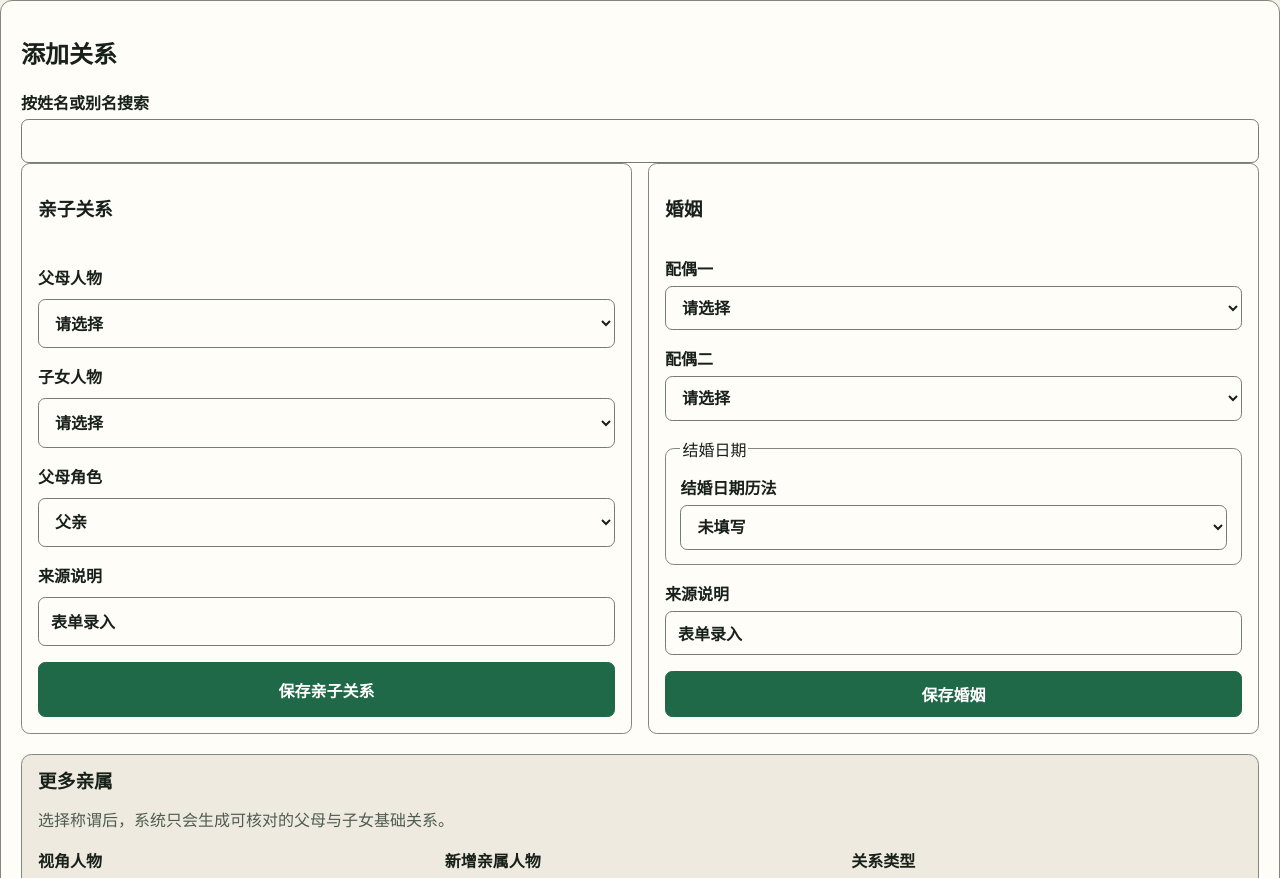
RelationshipEditor › stages Web parent-child entry before the legacy relationship gateway
The width and height of the screenshot is (1280, 878).
Select "｜张国强" in the dropdown labelled "父母人物" at (326, 324), box [38,299,615,348]
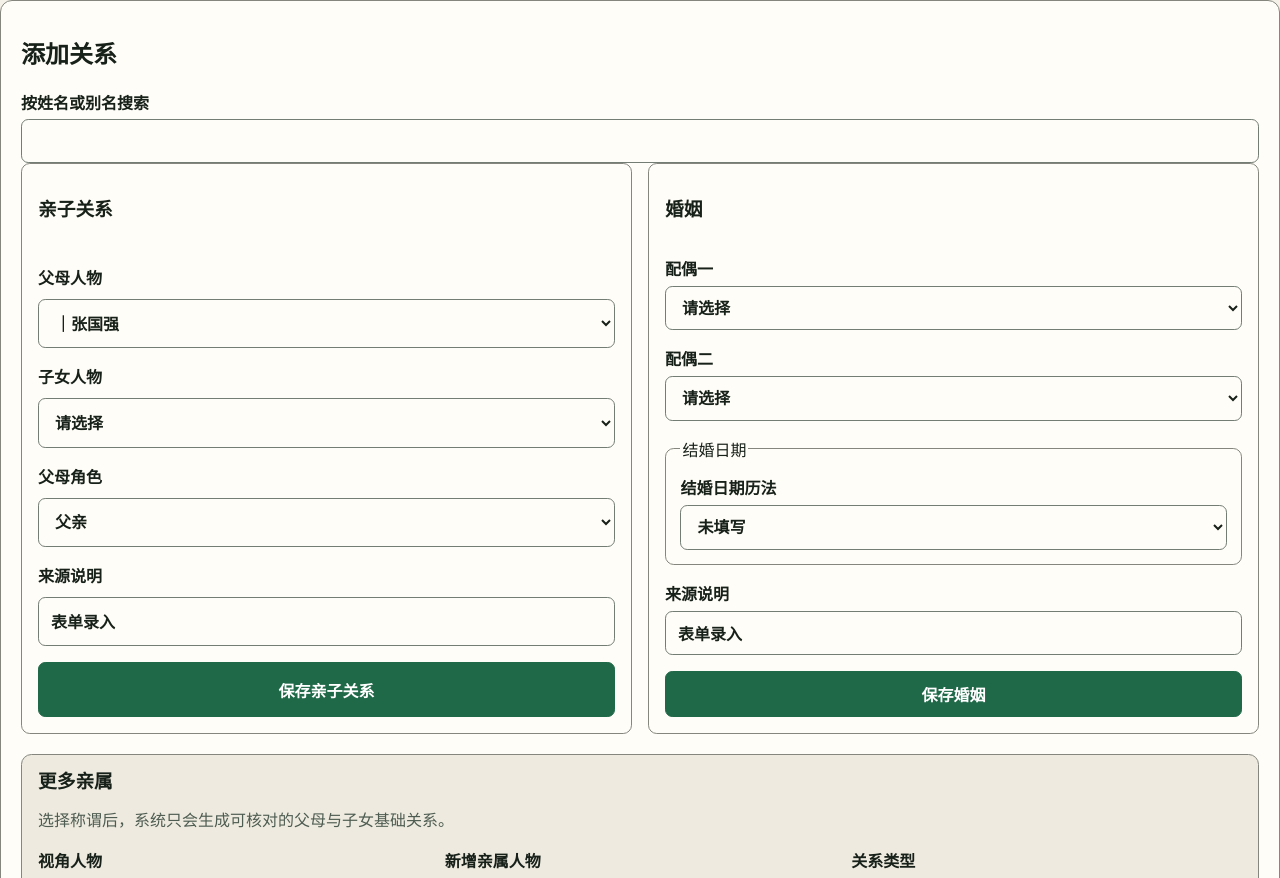
Select "｜张敏" in the dropdown labelled "子女人物" at (326, 423), box [38,398,615,448]
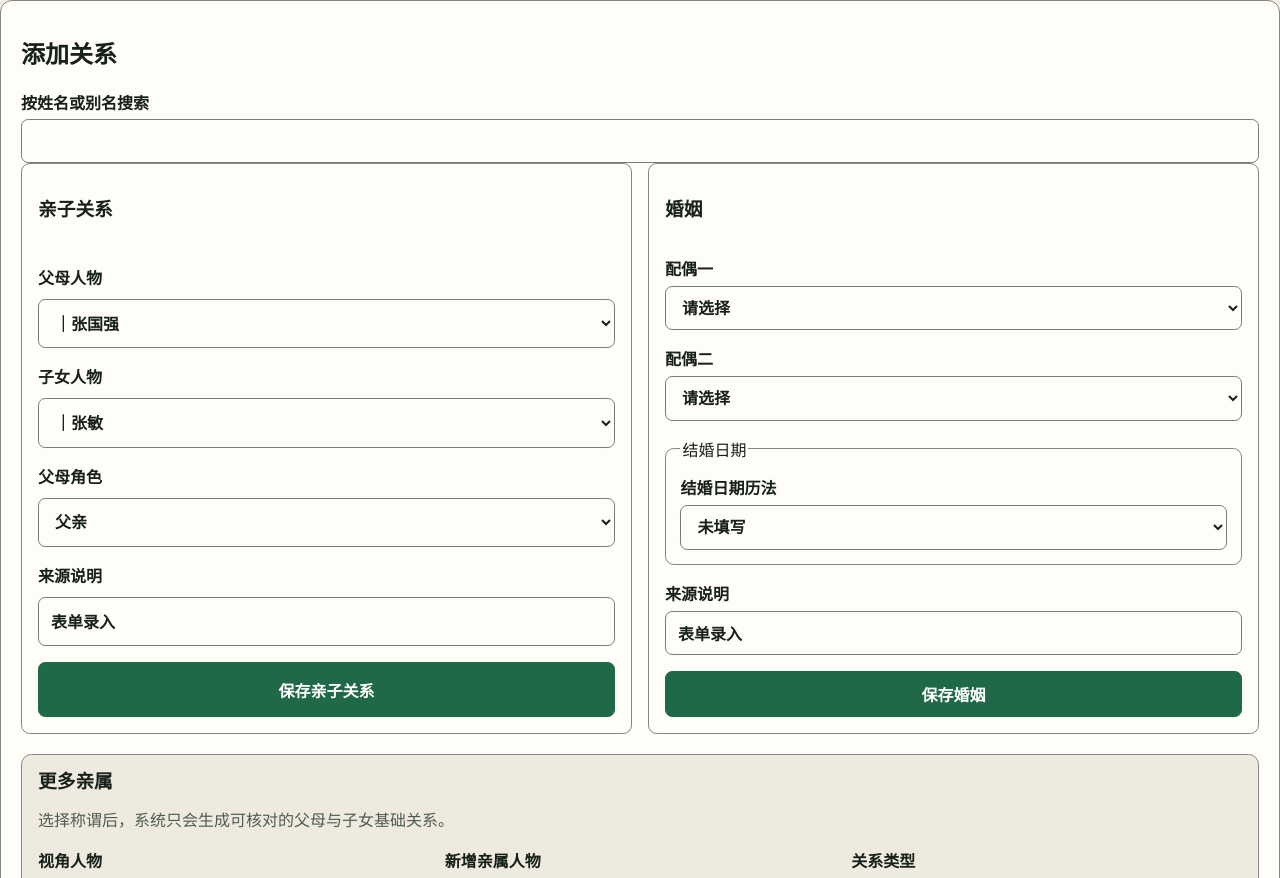
Click the button "保存亲子关系" at (326, 690), box [38,662,615,717]
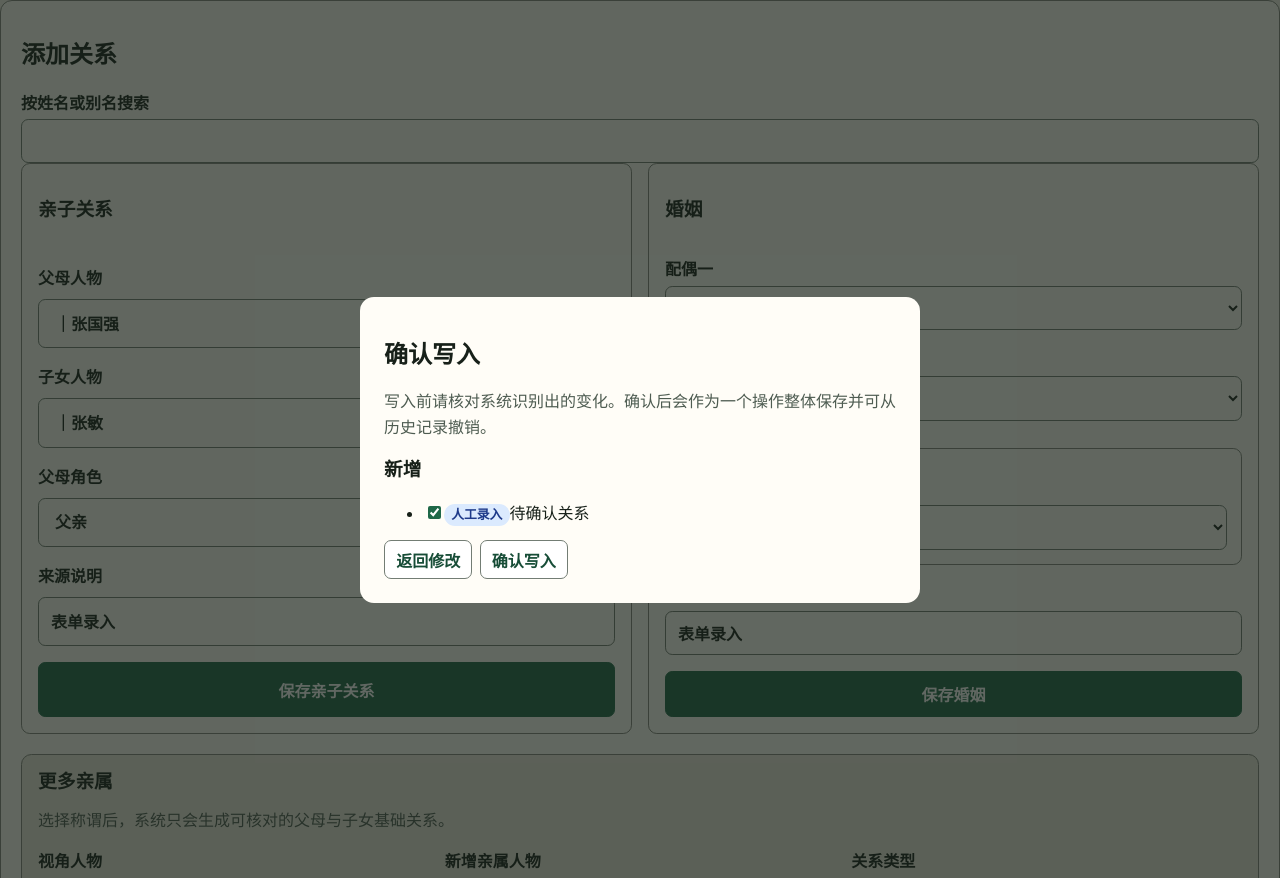
expect the dialog "确认写入" is shown: met, box [360,297,920,603]
